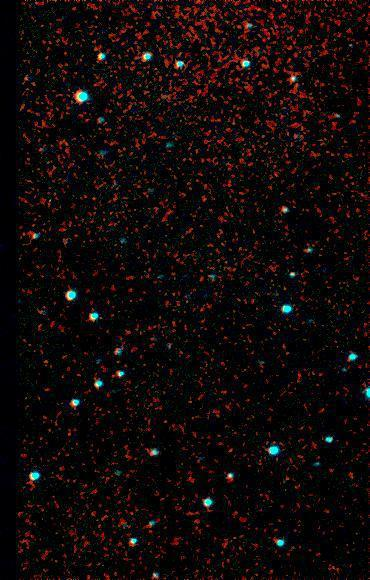star: (270, 195, 300, 225)
